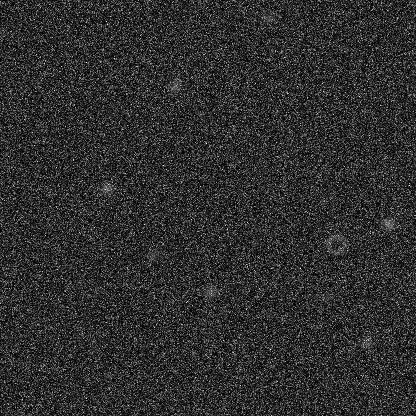Ring: (324, 231, 348, 255)
Spot: (258, 9, 274, 25), (380, 215, 396, 231), (144, 247, 160, 263), (202, 283, 218, 299), (319, 287, 335, 303), (99, 180, 115, 196), (321, 372, 337, 388), (167, 78, 183, 94), (357, 334, 373, 350)
